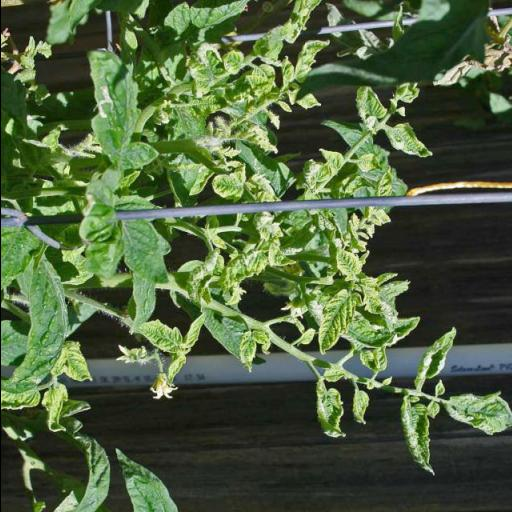Yellow Leaf Curl Virus: (398, 392, 438, 478), (310, 282, 356, 352), (219, 230, 268, 294), (443, 388, 511, 434), (412, 326, 460, 390), (312, 372, 348, 442), (286, 39, 330, 87), (382, 123, 432, 163), (188, 41, 224, 96), (235, 328, 268, 382), (135, 318, 184, 354), (50, 340, 94, 378), (356, 273, 388, 321), (40, 384, 70, 434), (206, 166, 247, 202), (332, 244, 366, 286), (351, 84, 385, 124), (246, 62, 278, 104), (347, 386, 373, 432), (216, 49, 242, 80), (320, 143, 345, 175), (356, 154, 382, 176)
